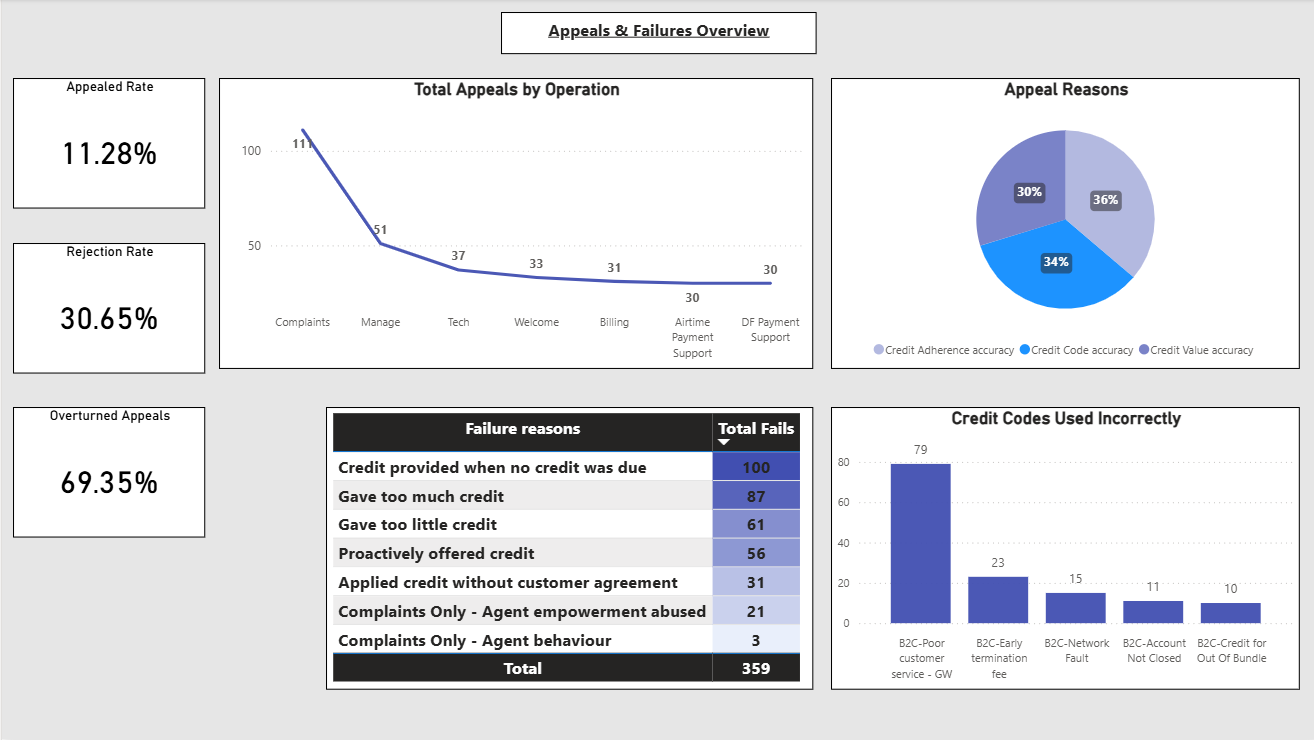

Layout of this report page (visuals, bound fields, positions):
{"tool":"powerbi","page":{"name":"Appeals & Failures","canvas":[1280,1050],"ordinal":1},"visuals":[{"type":"tableEx","fields":{"Values":["Credit Failure Reasons.Failure reasons","CountNonNull(Credit Failure Reasons.Failure reasons)"]},"box":[634.3,114.3,571.4,294.3],"z":0},{"type":"clusteredColumnChart","title":"Credit Codes Used Incorrectly","fields":{"Category":["Credit Monitoring July 25 Cleaned.What Credit Code was used?"],"Y":["Credit Monitoring July 25 Cleaned.Total Audits"]},"box":[42.9,114.3,531.4,294.3],"z":1000},{"type":"pieChart","title":"Appeal Reasons","fields":{"Category":["Credit Appeal Reasons.What was appealed?"],"Y":["CountNonNull(Credit Appeal Reasons.What was appealed?)"]},"box":[707.1,685.7,498.6,281.4],"z":2000},{"type":"card","fields":{"Values":["Credit Monitoring July 25 Cleaned.Appeal %"]},"box":[324.3,522.9,185.7,127.1],"z":3000,"group":"g1"},{"type":"card","fields":{"Values":["Credit Monitoring July 25 Cleaned.% Overturned Appeals"]},"box":[540,522.9,187.1,127.1],"z":4000,"group":"g1"},{"type":"card","fields":{"Values":["Credit Monitoring July 25 Cleaned.% Rejected Appeals"]},"box":[757.2,522.9,187.1,127.1],"z":5000,"group":"g1"},{"type":"barChart","fields":{"Category":["Credit Monitoring July 25 Cleaned.Operation"],"Y":["Credit Monitoring July 25 Cleaned.Total Appeals"]},"box":[42.9,685.7,620,281.4],"z":6000},{"type":"textbox","box":[485.7,12.9,307.1,41.4],"z":7000},{"type":"textbox","box":[487.1,75.7,304.3,38.6],"z":8000},{"type":"shape","box":[510,428.6,247.1,107.1],"z":8001},{"type":"group","id":"g1","title":"Group 1","box":[324.3,522.9,620,127.1],"z":8002}]}

Visuals, with their boxes on the page's 1280x1050 design canvas (x1, y1, x2, y2). These are canvas units, not pixel positions in the 1314x740 screenshot, which may show the page scaled, cropped or inside an application window:
tableEx - Credit Failure Reasons.Failure reasons x CountNonNull(Credit Failure Reasons.Failure reasons): 634,114,1206,409
"Credit Codes Used Incorrectly" clusteredColumnChart: 43,114,574,409
"Appeal Reasons" pieChart: 707,686,1206,967
card - Credit Monitoring July 25 Cleaned.Appeal %: 324,523,510,650
card - Credit Monitoring July 25 Cleaned.% Overturned Appeals: 540,523,727,650
card - Credit Monitoring July 25 Cleaned.% Rejected Appeals: 757,523,944,650
barChart - Credit Monitoring July 25 Cleaned.Operation x Credit Monitoring July 25 Cleaned.Total Appeals: 43,686,663,967
textbox: 486,13,793,54
textbox: 487,76,791,114
shape: 510,429,757,536
"Group 1" group: 324,523,944,650
